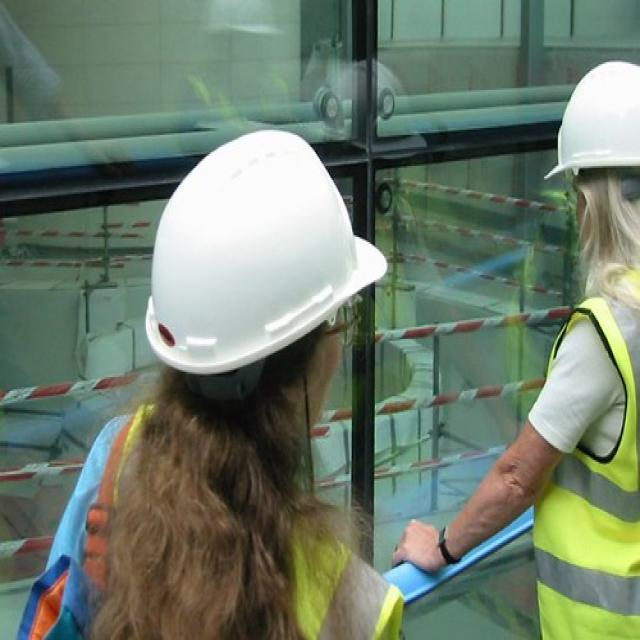Reflective-Jacket: (24, 405, 416, 640), (522, 257, 640, 640)
Safety-Helmet: (135, 126, 389, 381), (540, 54, 639, 200)
